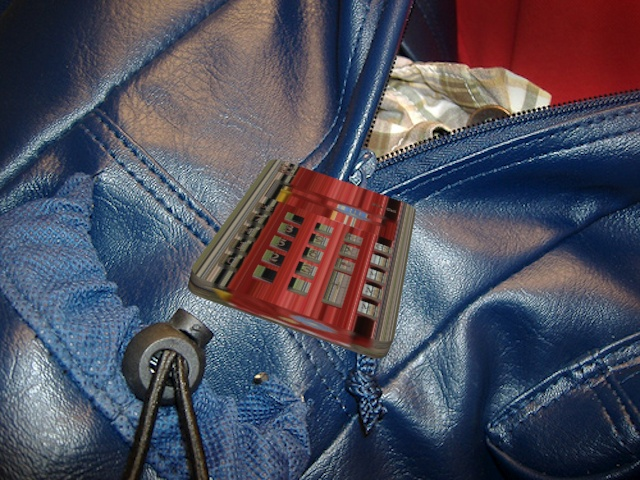calculator: (177, 153, 424, 368)
